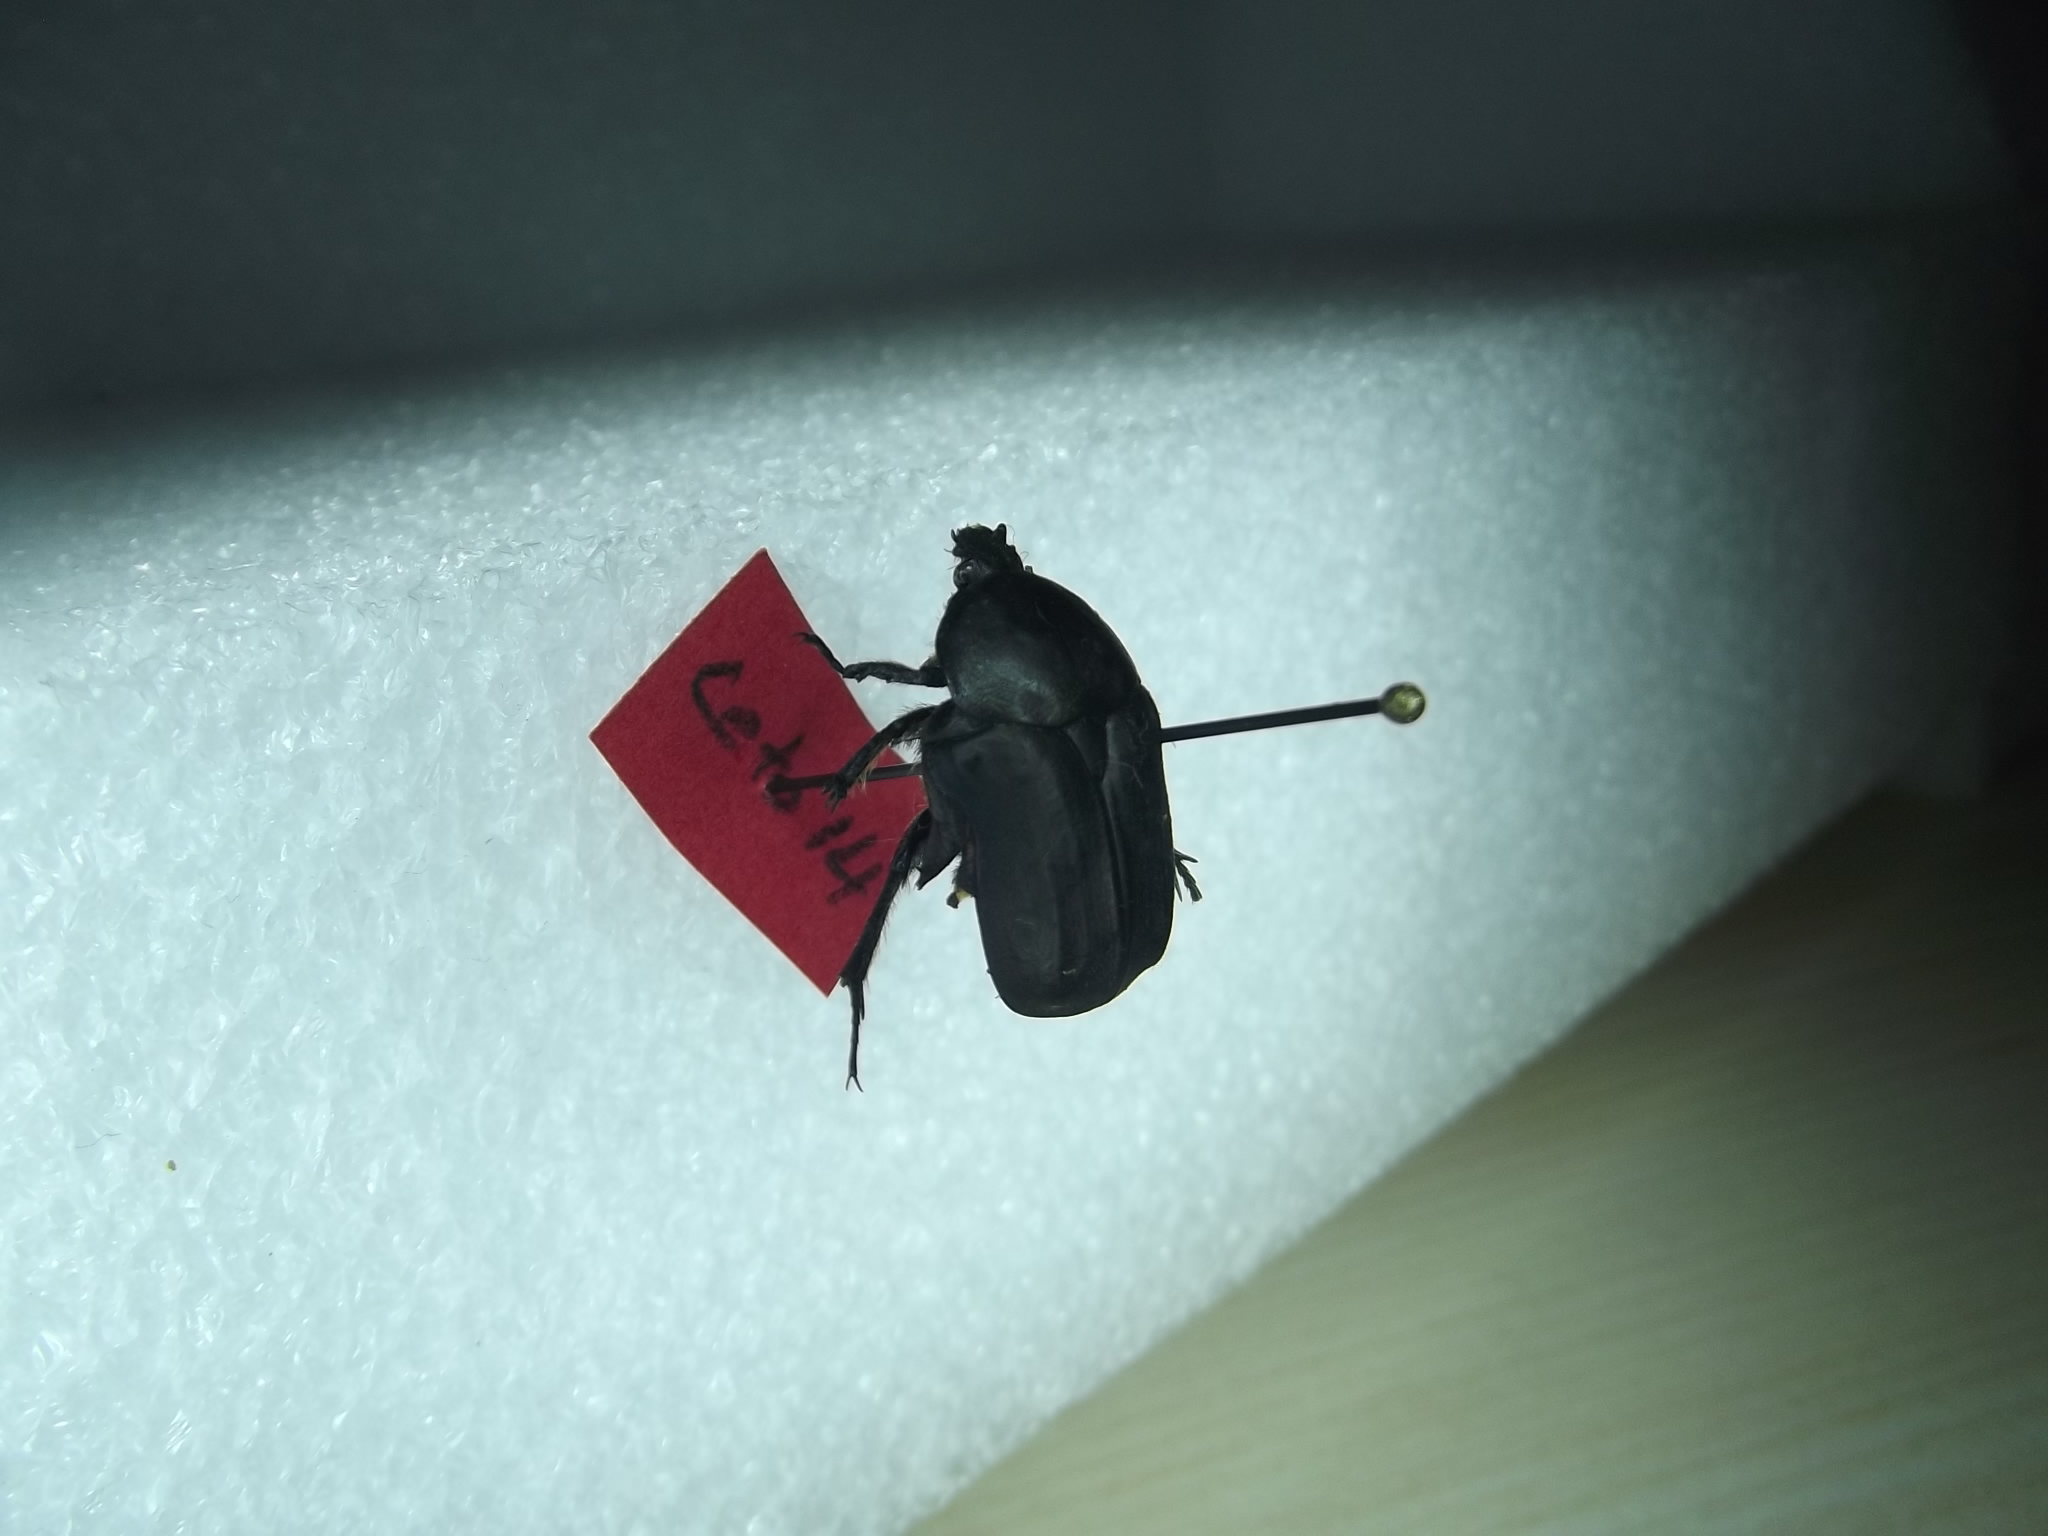Protaetia_vidua: (774, 510, 1209, 1104)
